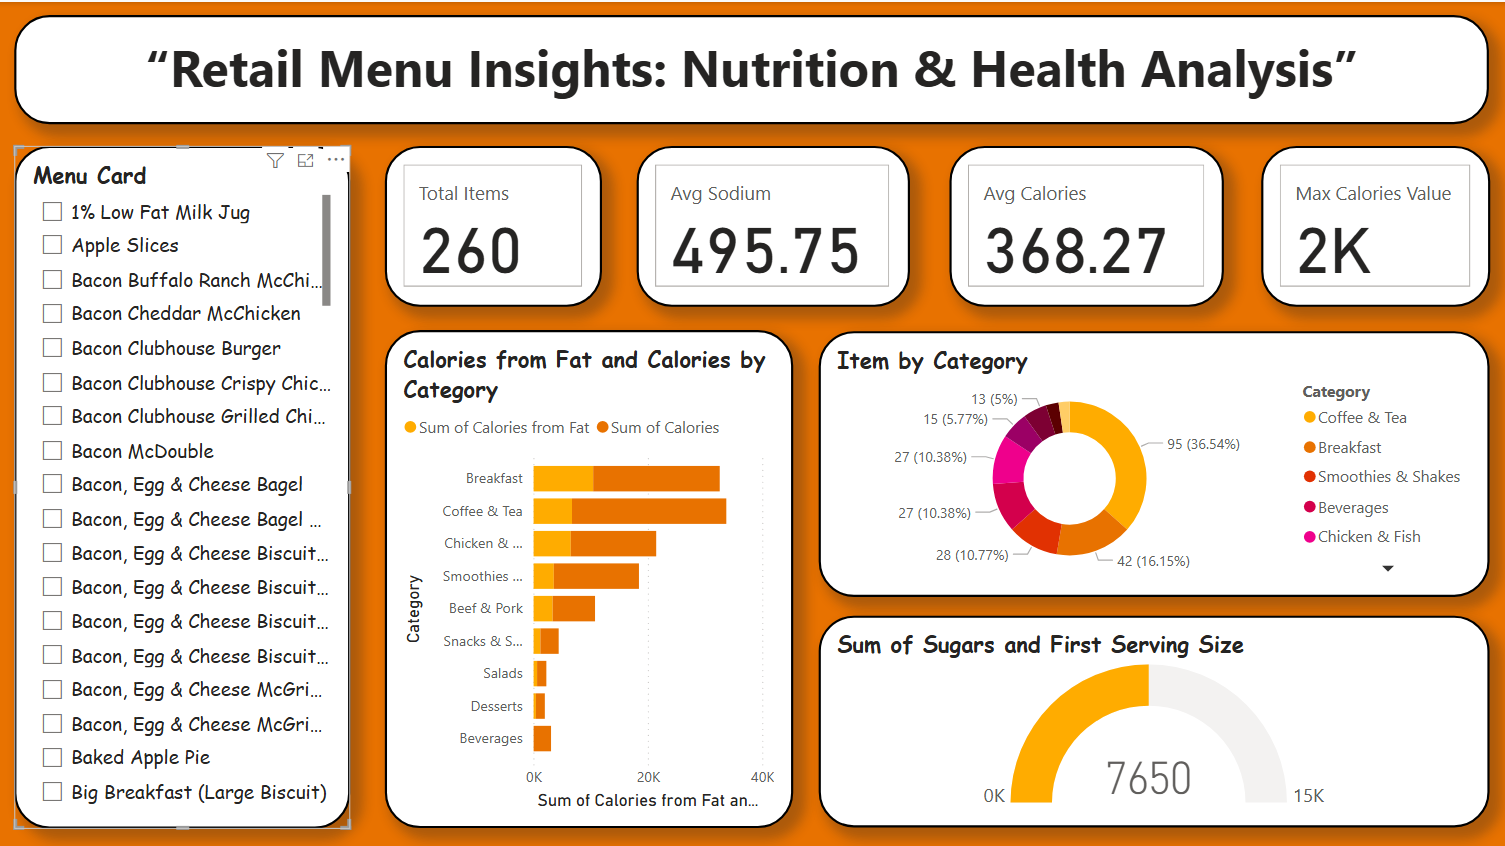

The dashboard page shown, as its layout file describes it:
{"tool":"powerbi","page":{"name":"Task 1","canvas":[1280,720],"ordinal":0},"visuals":[{"type":"slicer","title":"Menu Card","fields":{"Values":["menu.Item"]},"box":[13.3,122.6,285,579.9],"z":4},{"type":"cardVisual","fields":{"Data":["menu.Total Items"]},"box":[328.1,122.6,184.5,137],"z":5},{"type":"cardVisual","fields":{"Data":["menu.Avg Calories"]},"box":[807.5,122.6,233.1,137],"z":6},{"type":"cardVisual","fields":{"Data":["menu.Avg Sodium"]},"box":[541.3,122.6,232,137],"z":7},{"type":"cardVisual","fields":{"Data":["menu.Max Calories Value"]},"box":[1071.5,122.6,194.4,137],"z":8},{"type":"barChart","title":"Calories from Fat and Calories by Category","fields":{"Category":["menu.Category"],"Y":["Sum(menu.Calories from Fat)","Sum(menu.Calories)"]},"box":[328.1,278.4,346.9,423.1],"z":9},{"type":"donutChart","title":"Item by Category","fields":{"Category":["menu.Category"],"Y":["CountNonNull(menu.Item)"]},"box":[695.9,279.5,570,225.3],"z":10},{"type":"gauge","fields":{"Y":["Sum(menu.Sugars)"]},"box":[695.9,521.4,570,180.1],"z":11},{"type":"textbox","box":[13.3,11,1252.7,92.8],"z":12}]}

Visuals, with their boxes in screenshot pixels (x1, y1, x2, y2), scaled from the page's 1280x720 canvas onto the 1505x846 screenshot:
"Menu Card" slicer: rect(16, 144, 351, 825)
cardVisual - menu.Total Items: rect(386, 144, 603, 305)
cardVisual - menu.Avg Calories: rect(949, 144, 1224, 305)
cardVisual - menu.Avg Sodium: rect(636, 144, 909, 305)
cardVisual - menu.Max Calories Value: rect(1260, 144, 1488, 305)
"Calories from Fat and Calories by Category" barChart: rect(386, 327, 794, 824)
"Item by Category" donutChart: rect(818, 328, 1488, 593)
gauge - Sum(menu.Sugars): rect(818, 613, 1488, 824)
textbox: rect(16, 13, 1489, 122)
